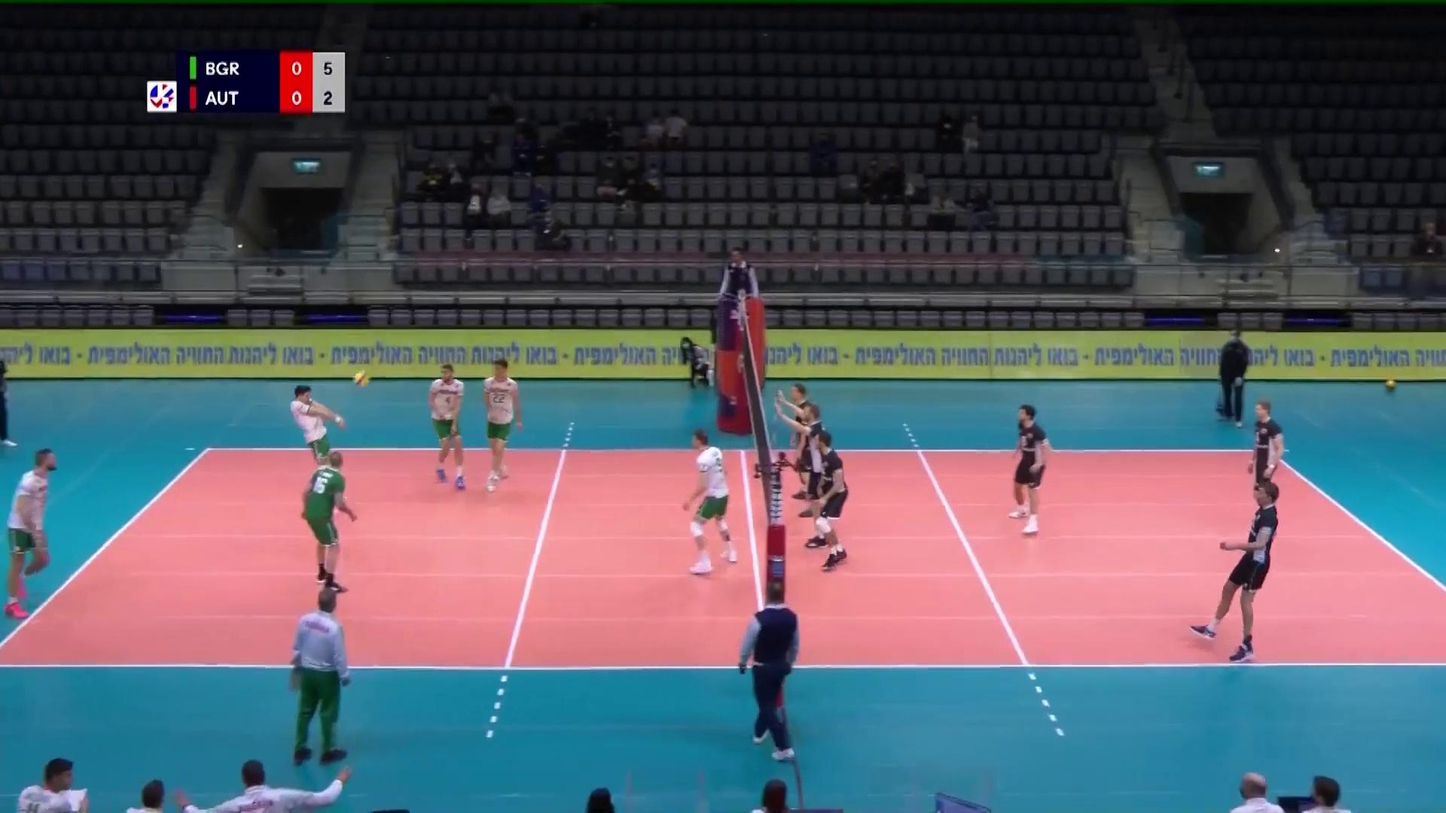ball: (354, 371, 370, 386)
